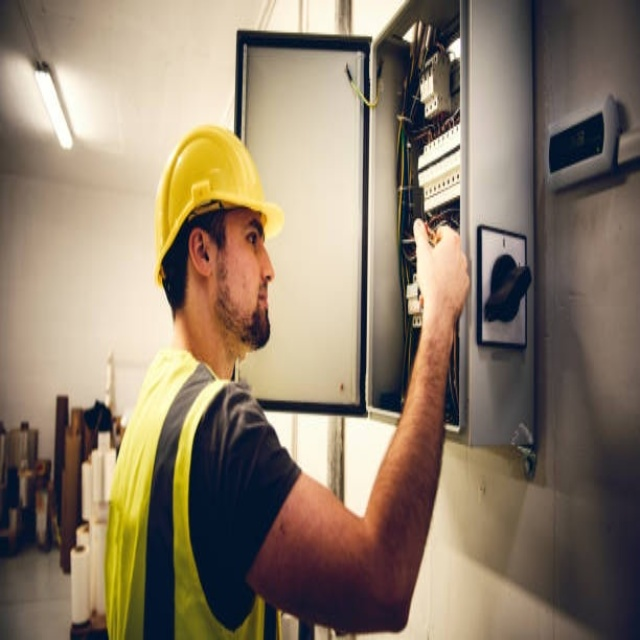Sin_gafas: (225, 218, 268, 257)
Sin_guantes: (410, 213, 475, 324)
Sin_mascara: (236, 274, 272, 333)
